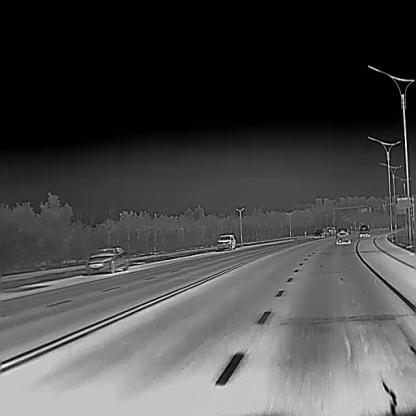car: (85, 244, 128, 274), (217, 233, 235, 250), (335, 228, 351, 245), (358, 224, 371, 236), (314, 228, 324, 238)
